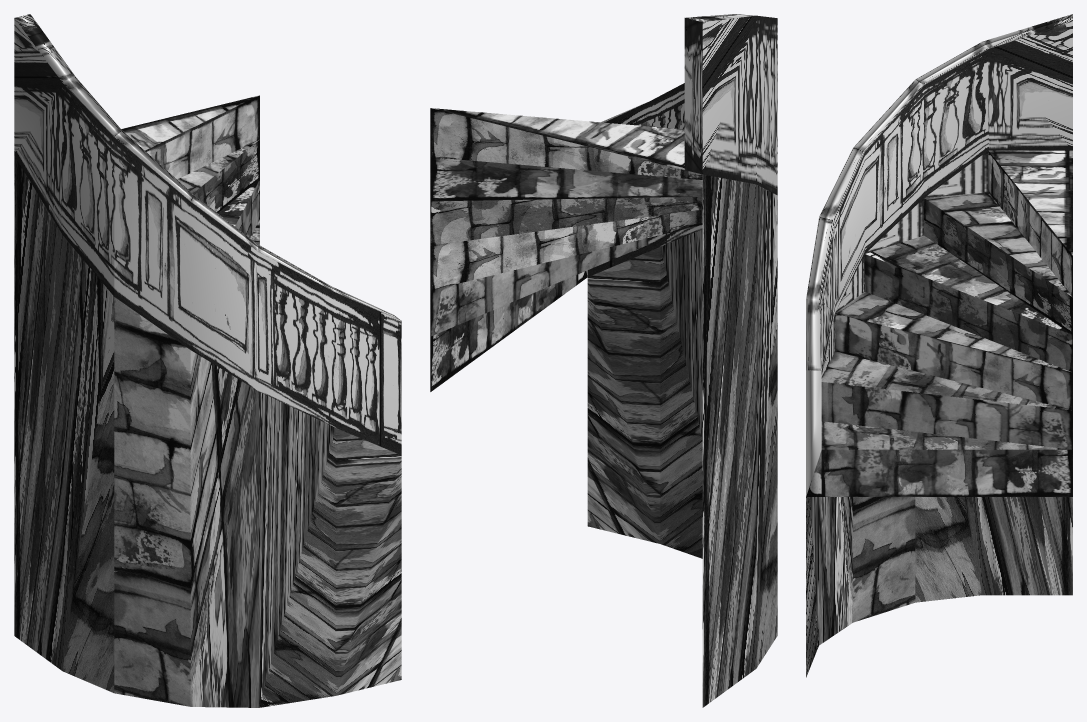
Rendered from CornerStairRail.fbx.
3 views of the same model, side by side, from view 1: azimuth 30°, elevation 25°; view 2: azimuth 150°, elevation 25°; view 3: azimuth 270°, elevation 25° (orthographic). The views are drawn at different scales.
Parts seen in each view (by area): view 1: CornerStair; view 2: CornerStair; view 3: CornerStair.
Part boxes in pixels (x1,y1,x2,y2): CornerStair: (14, 14, 401, 707); CornerStair: (430, 14, 777, 707); CornerStair: (806, 14, 1072, 677).
Size of the model in its own units: 5 by 12.02 by 5.
